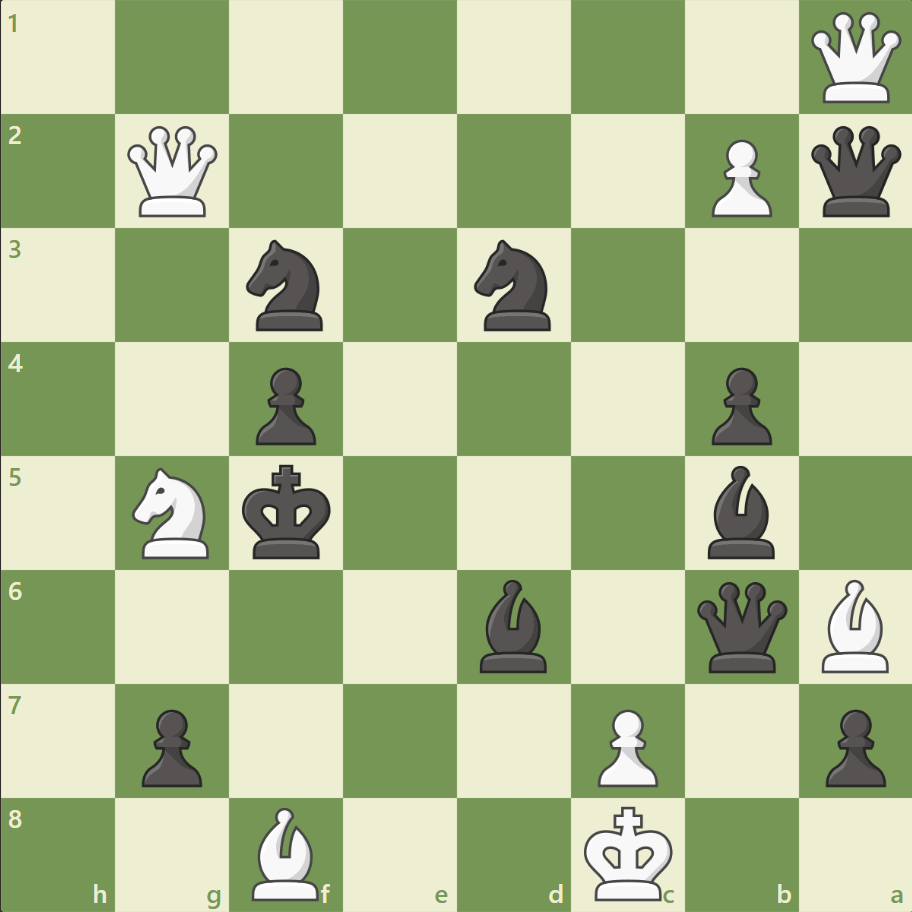B: (244, 801, 328, 904), (812, 574, 896, 676)
K: (579, 798, 679, 906)
N: (124, 461, 222, 564)
P: (701, 132, 776, 223), (588, 700, 662, 791)
Q: (124, 122, 223, 222), (805, 9, 904, 108)
b: (698, 460, 782, 563), (471, 574, 555, 676)
k: (238, 458, 338, 566)
n: (465, 234, 562, 337), (238, 234, 335, 337)
p: (133, 700, 208, 791), (701, 359, 776, 450), (247, 359, 322, 450), (815, 700, 889, 791)
q: (691, 576, 790, 676), (805, 122, 904, 222)
